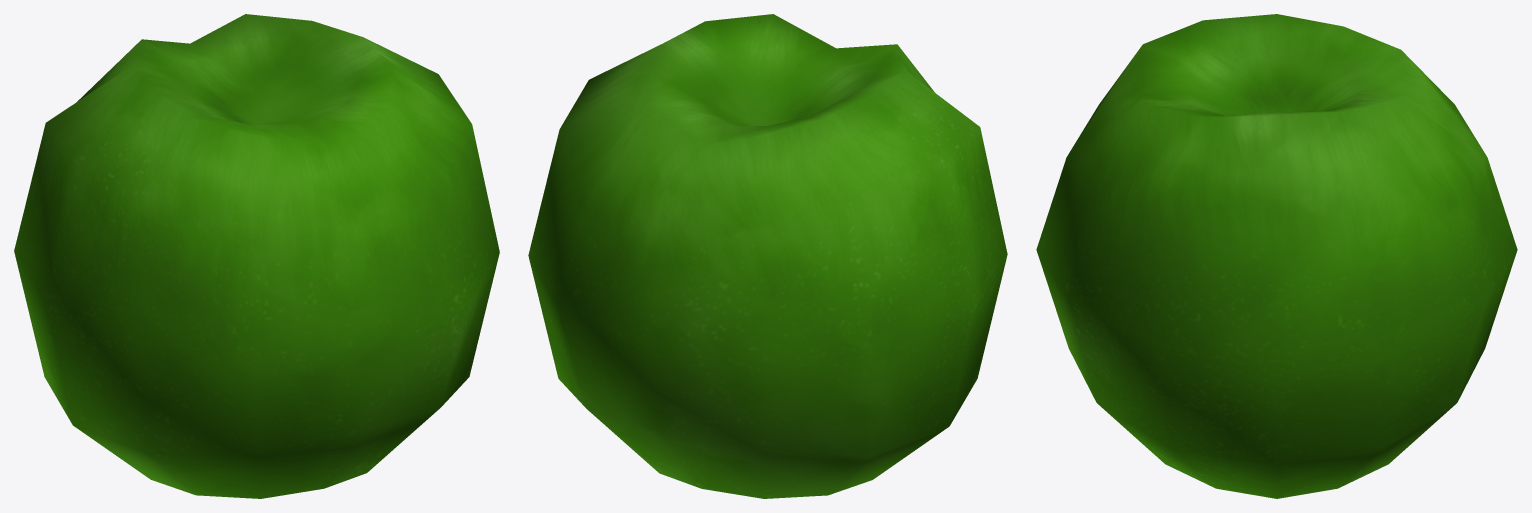
Rendered from gapple.fbx.
The picture shows the model from 3 angles, left to right: view 1: azimuth 30°, elevation 25°; view 2: azimuth 150°, elevation 25°; view 3: azimuth 270°, elevation 25°; orthographic projection.
Visible parts, largest first — view 1: Apple001; view 2: Apple001; view 3: Apple001.
Boxes of the visible parts, x1=… form: Apple001: x1=14, y1=14, x2=499, y2=498; Apple001: x1=528, y1=14, x2=1007, y2=498; Apple001: x1=1036, y1=14, x2=1517, y2=498.
Size of the model in its own units: 48.9 by 45.24 by 49.61.
Materials: 1 (1 with a texture image).
